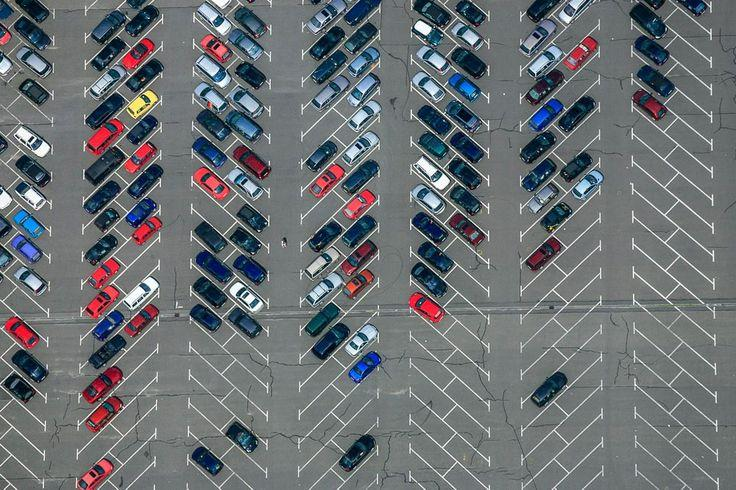car: (186, 89, 247, 160), (545, 44, 605, 115), (328, 163, 386, 235), (110, 91, 170, 160), (327, 414, 385, 485), (329, 274, 382, 351), (547, 100, 606, 169), (111, 200, 167, 272), (294, 297, 349, 369), (333, 26, 387, 99), (328, 331, 385, 400), (81, 28, 138, 97), (80, 55, 135, 126), (549, 126, 603, 198), (329, 137, 383, 208), (329, 301, 383, 372), (297, 214, 350, 286), (516, 175, 572, 243), (519, 369, 574, 438), (81, 2, 136, 71), (185, 63, 239, 133), (110, 255, 163, 326), (516, 37, 572, 104), (188, 35, 243, 103), (75, 334, 129, 403), (109, 177, 163, 246), (330, 247, 383, 317), (186, 201, 243, 266), (79, 112, 136, 177), (298, 321, 350, 392), (406, 215, 461, 282), (517, 92, 572, 159), (327, 56, 382, 123), (329, 221, 384, 288), (184, 423, 239, 490), (330, 111, 384, 179), (111, 120, 165, 188), (113, 12, 166, 81), (79, 196, 132, 265), (515, 203, 571, 268), (551, 71, 603, 141), (551, 17, 603, 87), (113, 147, 165, 217), (516, 231, 571, 297), (518, 11, 573, 77), (111, 67, 166, 133), (76, 362, 130, 429), (81, 85, 135, 152), (297, 266, 350, 334), (80, 166, 132, 235), (109, 287, 161, 356), (409, 55, 465, 119), (189, 118, 245, 182), (517, 121, 572, 186), (517, 67, 572, 132), (296, 242, 351, 307), (219, 107, 274, 172), (79, 140, 134, 205), (300, 74, 351, 144), (217, 410, 271, 476), (77, 223, 131, 289), (408, 133, 461, 200), (298, 21, 351, 88), (1, 143, 54, 210), (518, 147, 570, 215), (76, 390, 128, 458), (220, 245, 272, 313), (113, 39, 165, 107), (329, 86, 386, 148), (628, 18, 684, 81), (407, 246, 462, 310), (298, 130, 350, 197), (79, 305, 130, 373), (188, 258, 242, 322), (552, 156, 602, 225), (439, 69, 492, 134), (330, 194, 383, 259), (0, 367, 51, 434), (190, 10, 245, 72), (406, 276, 460, 339), (189, 150, 243, 213), (219, 189, 271, 254), (222, 0, 274, 65), (337, 5, 388, 71), (299, 157, 350, 223), (188, 285, 239, 351), (220, 273, 271, 339), (301, 47, 351, 114), (186, 231, 240, 293), (1, 200, 53, 264), (409, 162, 460, 227), (78, 254, 129, 319), (408, 109, 463, 169), (78, 276, 131, 338), (628, 72, 680, 135), (221, 27, 272, 91), (2, 228, 53, 292), (3, 174, 54, 238), (6, 9, 56, 74), (409, 30, 464, 89), (409, 81, 462, 142), (409, 191, 461, 253), (221, 79, 273, 141), (219, 302, 270, 365), (0, 338, 50, 402), (222, 162, 272, 226), (222, 133, 272, 197), (3, 256, 53, 320), (442, 40, 491, 105), (439, 13, 492, 73), (629, 46, 681, 107), (441, 206, 492, 268), (5, 37, 56, 99), (626, 0, 682, 56), (440, 179, 491, 240), (441, 121, 491, 182), (222, 54, 272, 115), (410, 6, 465, 61), (6, 117, 54, 180), (439, 98, 492, 155), (439, 153, 491, 211), (0, 310, 50, 370), (187, 0, 247, 50), (300, 0, 350, 59), (6, 65, 55, 124), (222, 217, 270, 277), (115, 0, 167, 53), (72, 447, 125, 490), (442, 0, 491, 44), (333, 0, 382, 41), (408, 0, 461, 33)
